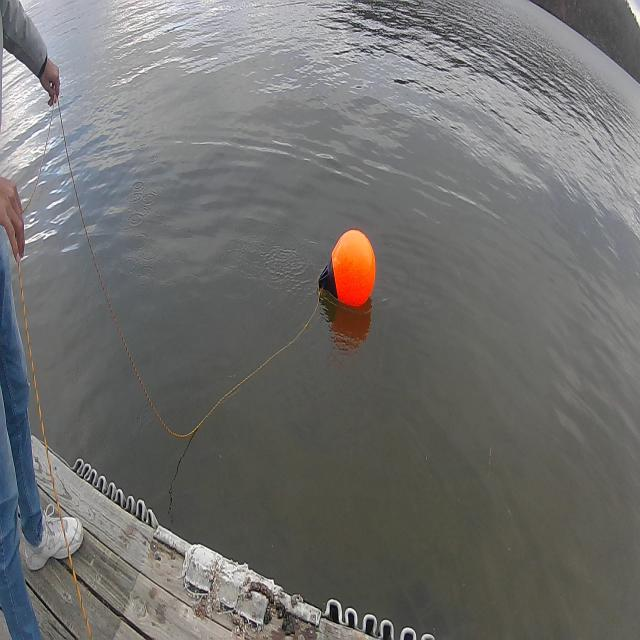Buoy: (317, 225, 381, 324)
